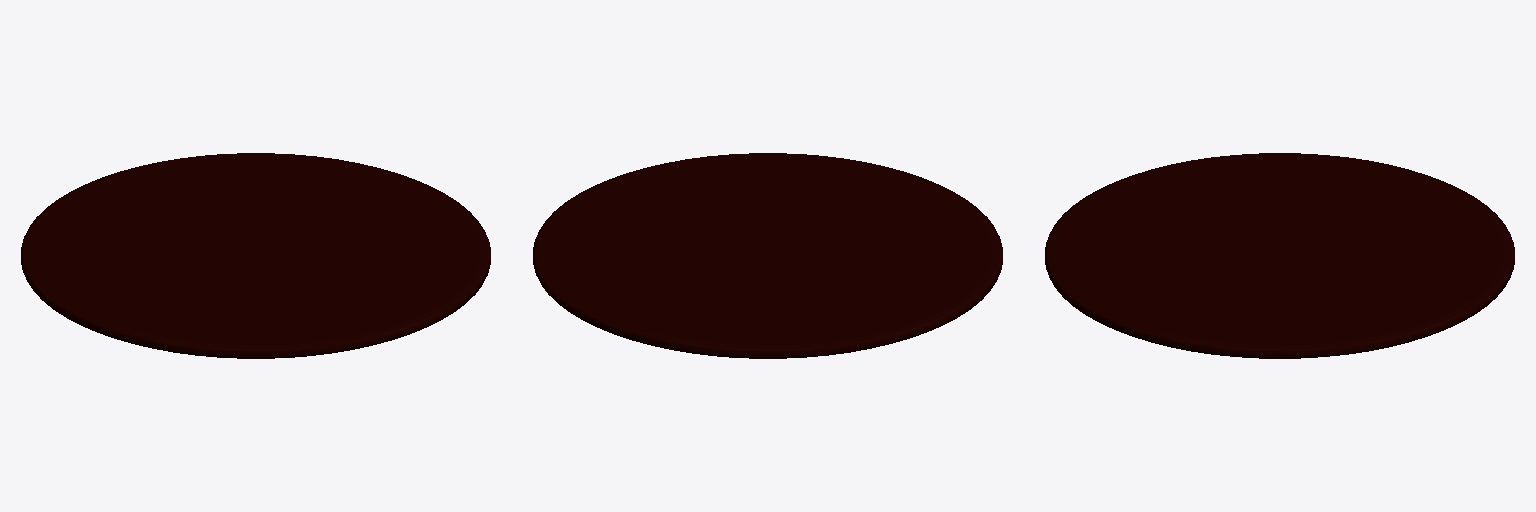
The model's file is carpet.obj.
3 renders of one model, left to right at view 1: azimuth 30°, elevation 25°; view 2: azimuth 150°, elevation 25°; view 3: azimuth 270°, elevation 25°, orthographic.
Parts seen in each view (by area): view 1: Circle.004; view 2: Circle.004; view 3: Circle.004.
Boxes of the visible parts, x1,y1,x2,y2 form: Circle.004: [21, 153, 490, 358]; Circle.004: [533, 153, 1002, 358]; Circle.004: [1045, 153, 1514, 358].
Size of the model in its own units: 2.92 by 0.0753 by 2.92.